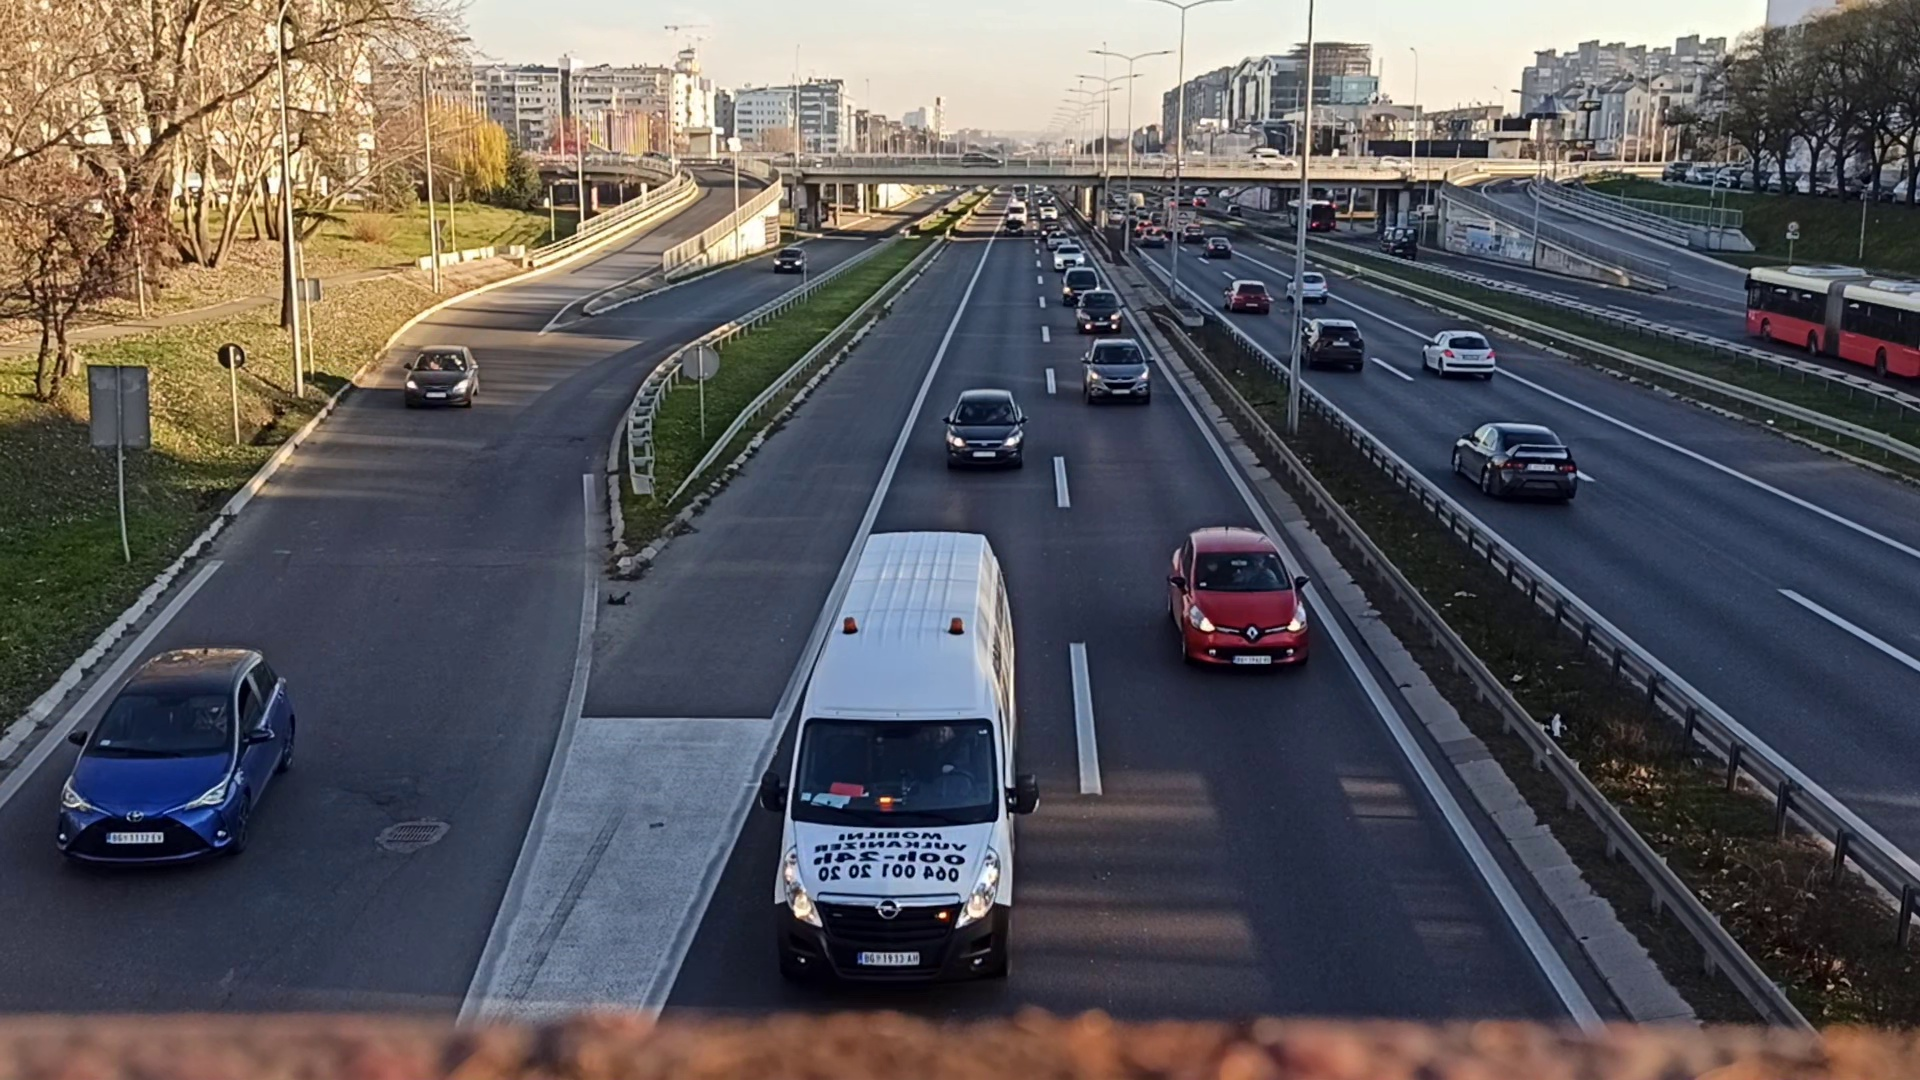bus: (1750, 261, 1920, 378)
car: (49, 642, 301, 876), (1164, 530, 1316, 674), (1451, 419, 1582, 504), (947, 382, 1023, 469), (1075, 335, 1153, 410), (405, 339, 480, 410), (1422, 328, 1495, 381), (1302, 320, 1367, 367), (1073, 290, 1124, 335)
van: (775, 537, 1013, 1006)
